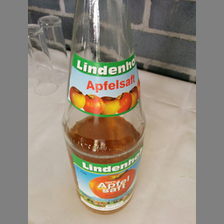juice: (62, 1, 146, 214)
